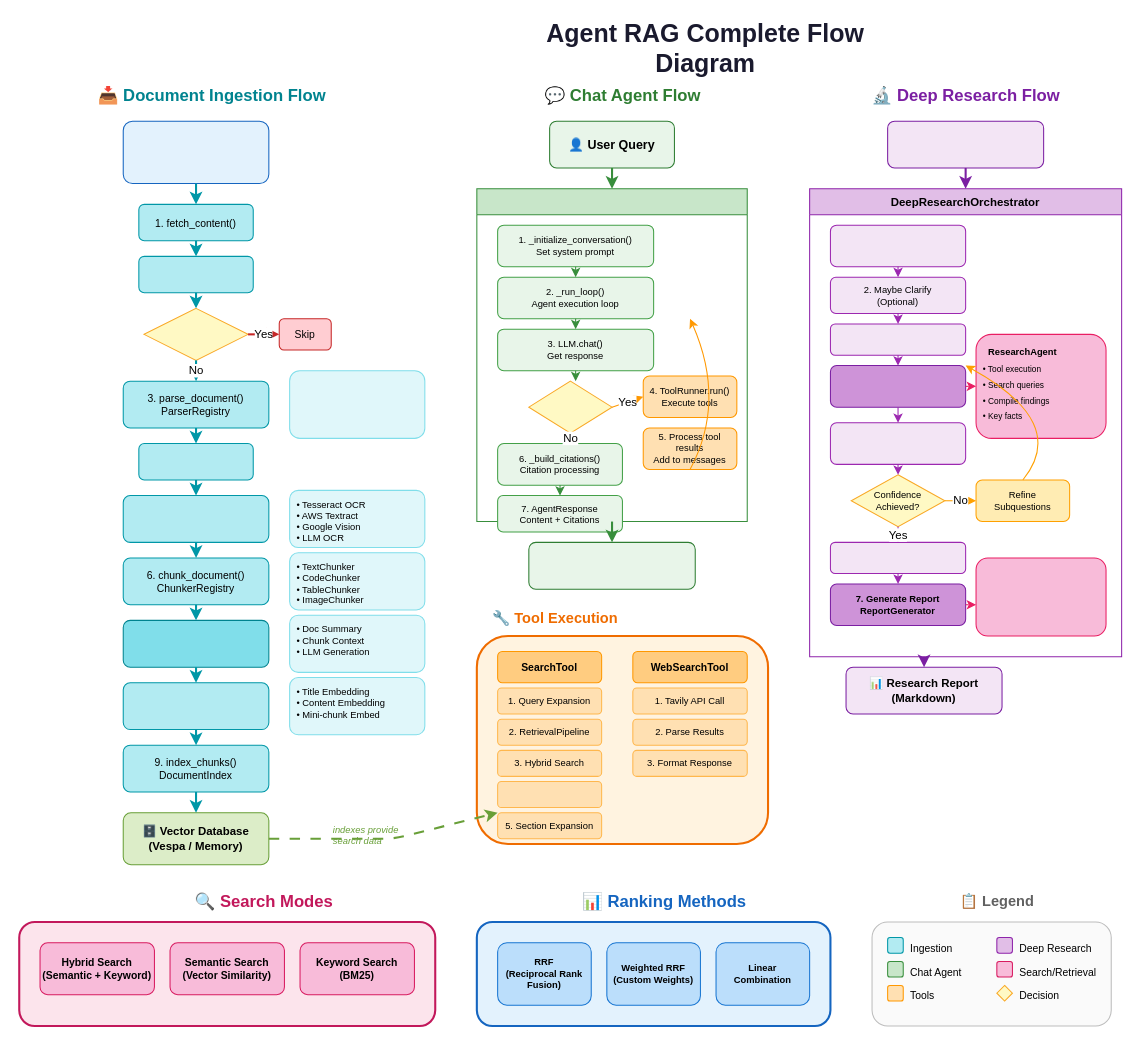
The diagram is 1140 pixels wide and 1044 high, and some of its shapes have lost their labels. The box of each missing label's shape, as (x1, y1, x2, y2) in pixels:
1. Generate Initial Subquestions: (829, 224, 966, 267)
2. dedup_check(): (138, 255, 253, 293)
3. Generate Research Plan: (829, 323, 966, 355)
4. extract_images(): (138, 443, 253, 480)
4. RRF Ranking: (497, 781, 602, 808)
4. Run Research Cycle (Parallel Agents): (829, 365, 966, 407)
5. ocr_images() OCR Registry: (122, 495, 269, 542)
5. Think About Findings (Self-reflection): (829, 422, 966, 464)
6. Summarize Findings: (829, 541, 966, 574)
7. ContextualRAG (Optional): (122, 619, 269, 667)
8. embed_chunks() IndexingEmbedder: (122, 682, 269, 730)
ChatAgent: (476, 188, 747, 522)
Duplicate?: (143, 307, 248, 360)
Tool Calls?: (528, 380, 612, 433)
• Executive Summary • Key Findings • Limitations • Sources: (975, 557, 1106, 636)
• PDFParser • DOCXParser • PPTXParser • XLSXParser • MarkdownParser: (289, 370, 425, 438)
📄 Document Input (PDF, DOCX, PPTX, XLSX, MD, URL): (122, 120, 269, 184)
📤 Response to User (with citations): (528, 541, 695, 589)
🔍 Research Query: (887, 120, 1044, 168)
